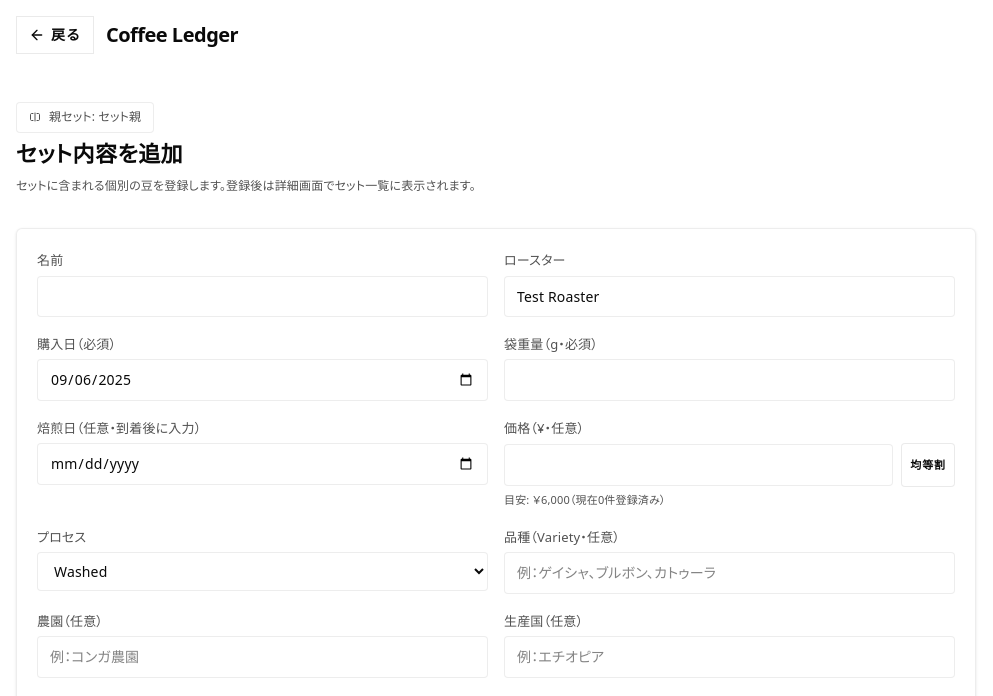
it: AddChildBagPage › applies equalized price suggestion
Expected: the text "親セット: セット親" is shown, [49,107,141,128]
Click the button "均等割": (928, 465) [901,443,955,487]
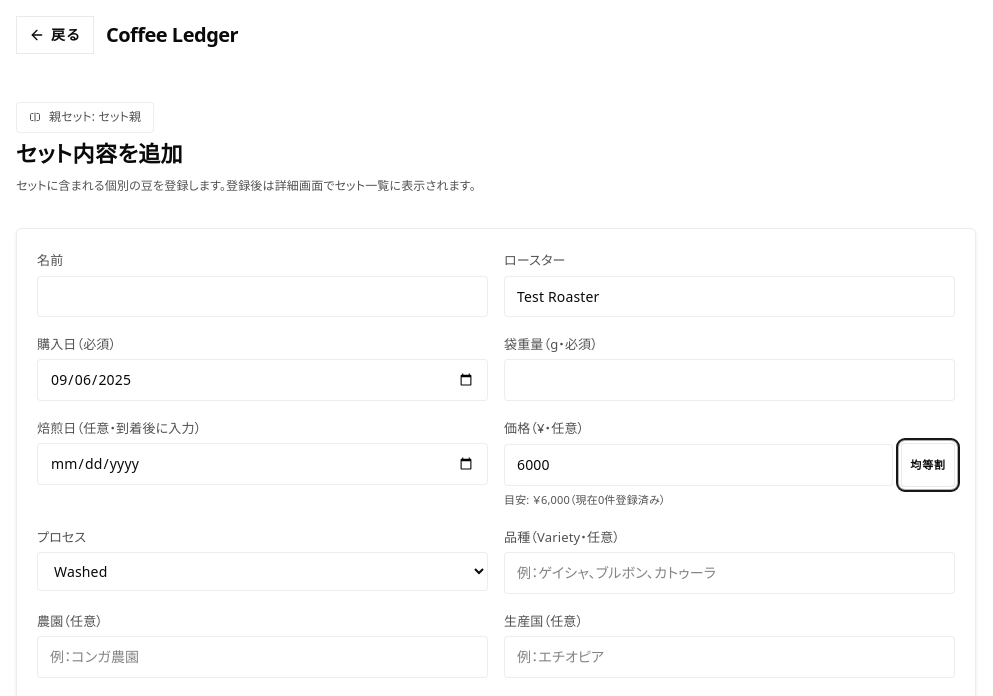
Result: the number field labelled "価格（¥・任意）" is not empty at [504,444,893,486]
